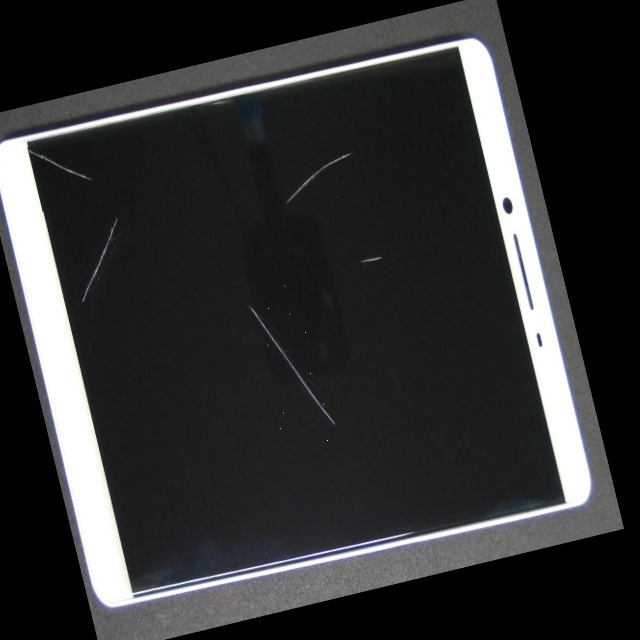scratch: (165, 124, 553, 449), (117, 146, 378, 425), (120, 83, 429, 312), (16, 174, 129, 414), (0, 95, 95, 218)
